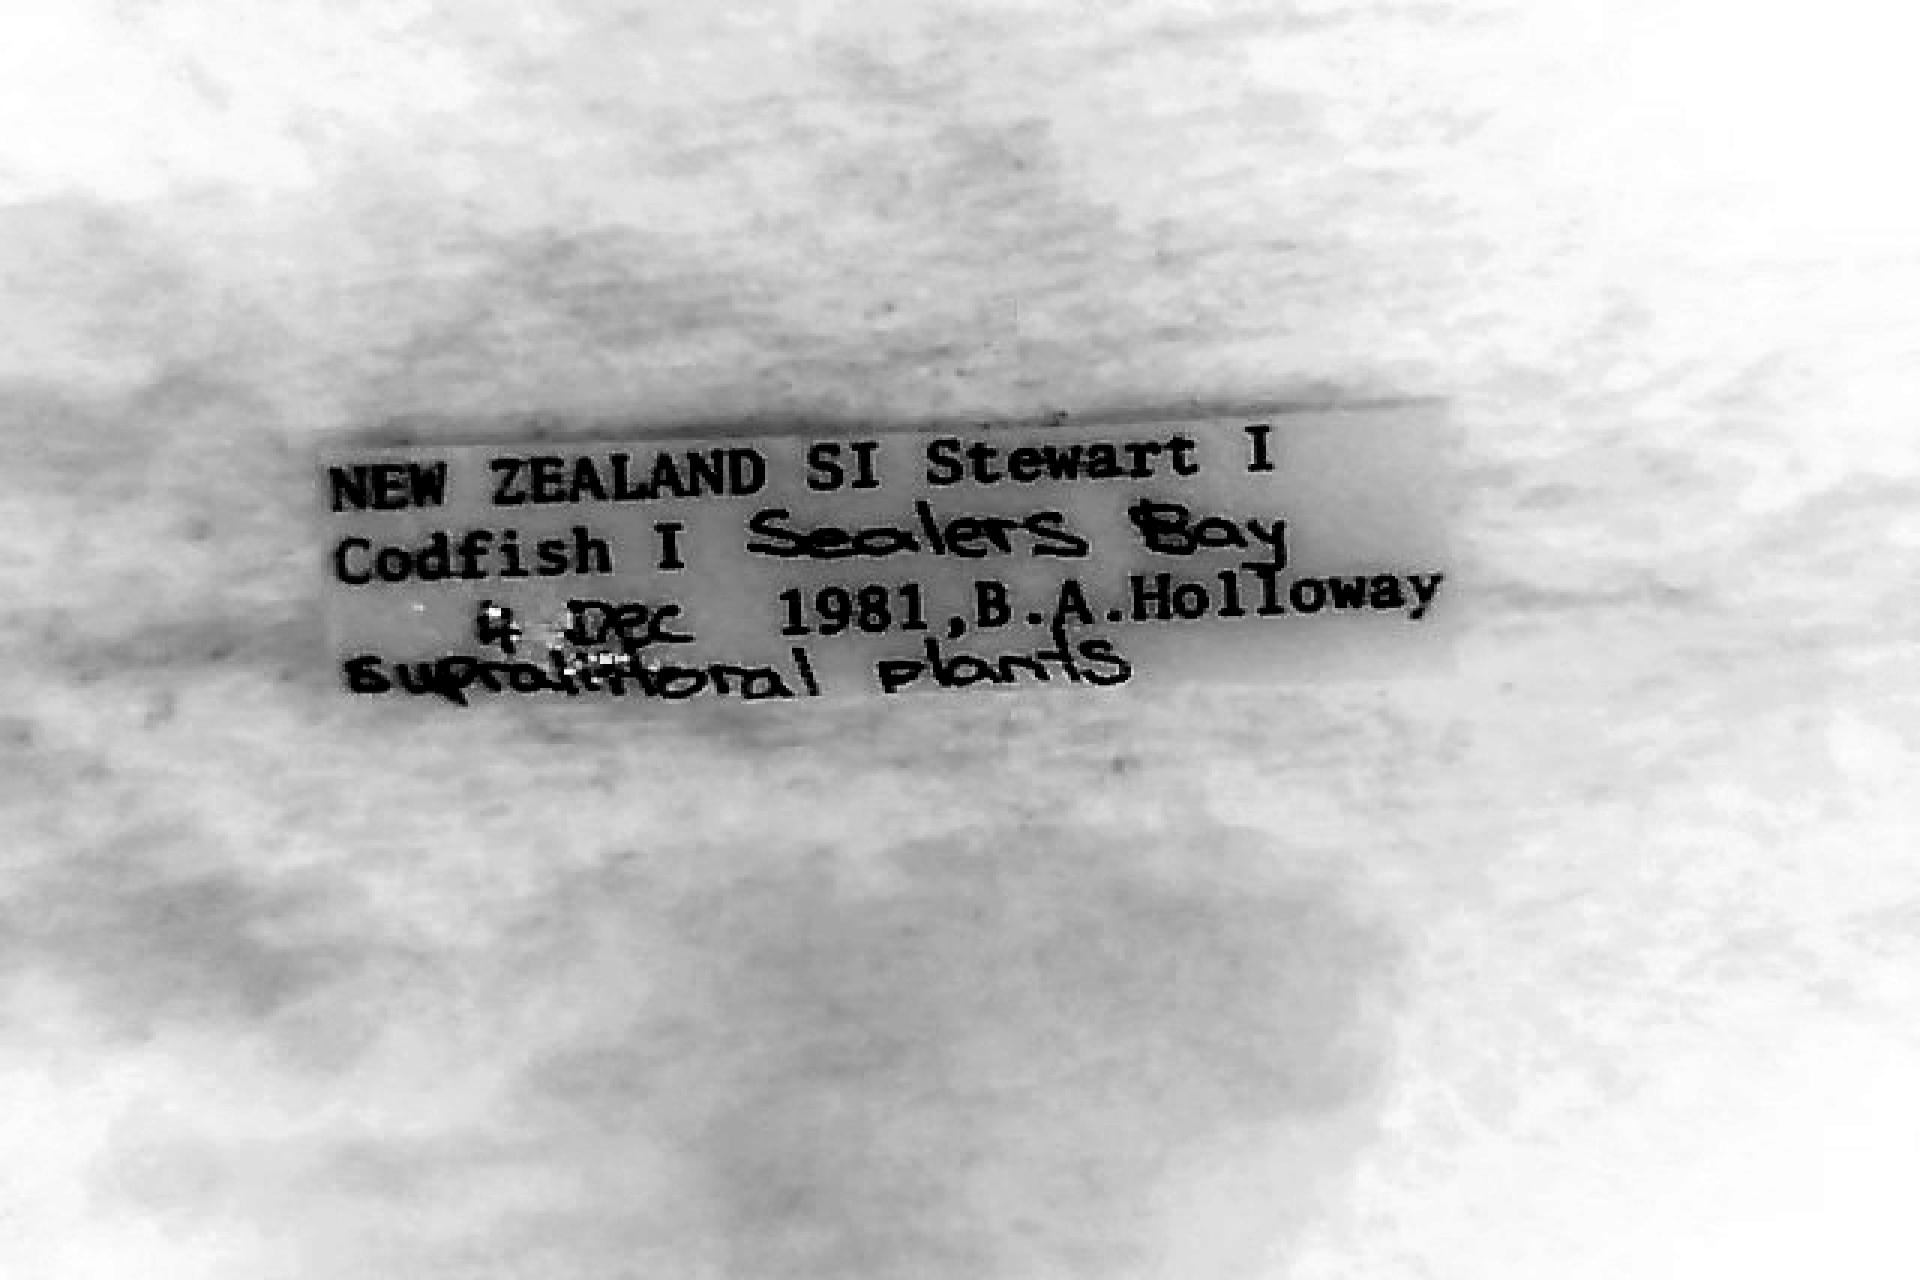hand_label: (319, 403, 1451, 701)
